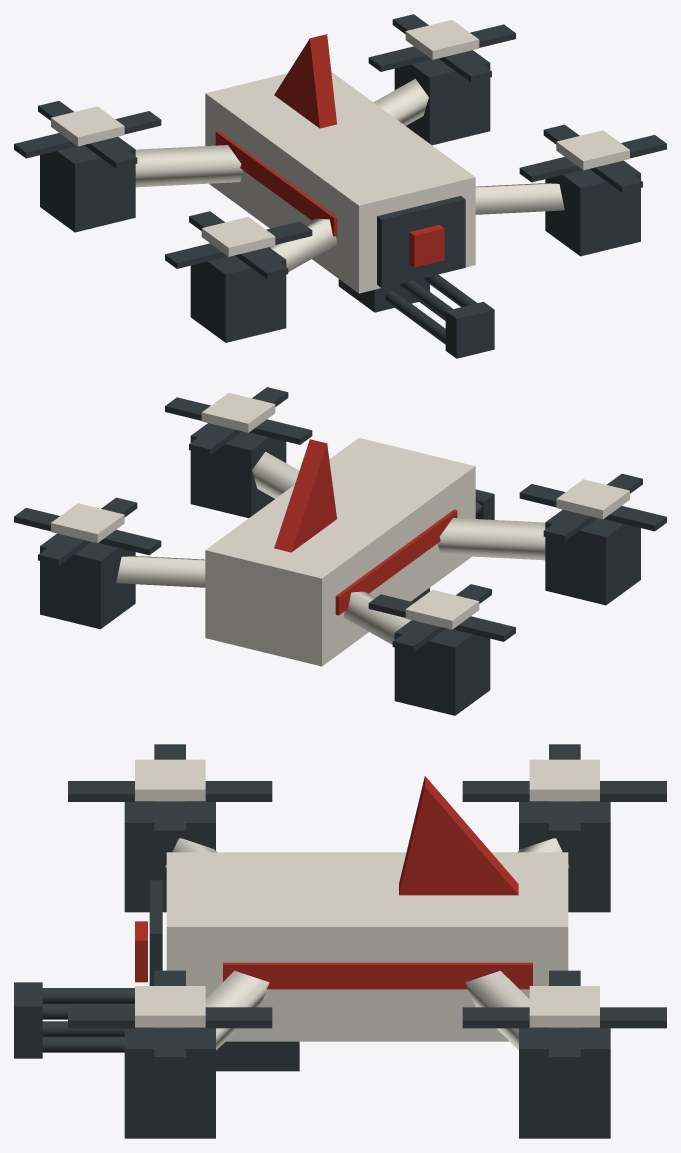
The picture shows the model from 3 angles, top to bottom: view 1: azimuth 30°, elevation 25°; view 2: azimuth 150°, elevation 25°; view 3: azimuth 270°, elevation 25°; orthographic projection. The views are drawn at different scales.
Parts seen in each view (by area): view 1: gun-drone-fleet-armor, gun-drone-fleet-machine, gun-drone-fleet-red, gun-fleet-machine, rotor--1--1-fleet-machine, rotor-1-1-fleet-machine, rotor--1-1-fleet-machine, rotor-1--1-fleet-machine, rotor--1-1-fleet-armor, rotor-1--1-fleet-armor, rotor-1-1-fleet-armor, rotor--1--1-fleet-armor; view 2: gun-drone-fleet-armor, gun-drone-fleet-machine, gun-drone-fleet-red, rotor--1-1-fleet-machine, rotor-1--1-fleet-machine, rotor--1--1-fleet-machine, rotor-1-1-fleet-machine, rotor--1--1-fleet-armor, rotor-1-1-fleet-armor, rotor-1--1-fleet-armor, rotor--1-1-fleet-armor, gun-fleet-machine; view 3: gun-drone-fleet-armor, gun-drone-fleet-machine, gun-drone-fleet-red, gun-fleet-machine, rotor-1--1-fleet-machine, rotor-1-1-fleet-machine, rotor--1--1-fleet-machine, rotor--1-1-fleet-machine, rotor--1-1-fleet-armor, rotor--1--1-fleet-armor, rotor-1--1-fleet-armor, rotor-1-1-fleet-armor.
Part boxes in pixels (<box>): gun-drone-fleet-armor: <box>135,72,564,293</box>; gun-drone-fleet-machine: <box>40,50,640,342</box>; gun-drone-fleet-red: <box>215,34,444,267</box>; gun-fleet-machine: <box>338,274,494,358</box>; rotor--1--1-fleet-machine: <box>14,101,161,168</box>; rotor-1-1-fleet-machine: <box>519,124,666,192</box>; rotor--1-1-fleet-machine: <box>165,211,312,278</box>; rotor-1--1-fleet-machine: <box>368,14,515,81</box>; rotor--1-1-fleet-armor: <box>201,217,275,256</box>; rotor-1--1-fleet-armor: <box>405,20,479,59</box>; rotor-1-1-fleet-armor: <box>556,130,629,170</box>; rotor--1--1-fleet-armor: <box>51,106,124,146</box>; gun-drone-fleet-armor: <box>116,438,545,666</box>; gun-drone-fleet-machine: <box>40,423,640,715</box>; gun-drone-fleet-red: <box>274,439,457,615</box>; rotor--1-1-fleet-machine: <box>519,473,666,541</box>; rotor-1--1-fleet-machine: <box>14,497,161,565</box>; rotor--1--1-fleet-machine: <box>368,584,515,651</box>; rotor-1-1-fleet-machine: <box>165,387,312,454</box>; rotor--1--1-fleet-armor: <box>405,589,479,629</box>; rotor-1-1-fleet-armor: <box>201,393,275,432</box>; rotor-1--1-fleet-armor: <box>51,503,124,543</box>; rotor--1-1-fleet-armor: <box>556,479,629,519</box>; gun-fleet-machine: <box>411,489,494,602</box>; gun-drone-fleet-armor: <box>165,838,569,1050</box>; gun-drone-fleet-machine: <box>124,802,610,1138</box>; gun-drone-fleet-red: <box>135,776,532,989</box>; gun-fleet-machine: <box>14,982,299,1071</box>; rotor-1--1-fleet-machine: <box>462,970,666,1064</box>; rotor-1-1-fleet-machine: <box>68,970,272,1064</box>; rotor--1--1-fleet-machine: <box>462,744,666,838</box>; rotor--1-1-fleet-machine: <box>68,744,272,838</box>; rotor--1-1-fleet-armor: <box>135,759,205,801</box>; rotor--1--1-fleet-armor: <box>529,759,599,801</box>; rotor-1--1-fleet-armor: <box>529,986,599,1027</box>; rotor-1-1-fleet-armor: <box>135,986,205,1027</box>.
Size of the model in its own units: 6.26 by 2.54 by 5.53.
